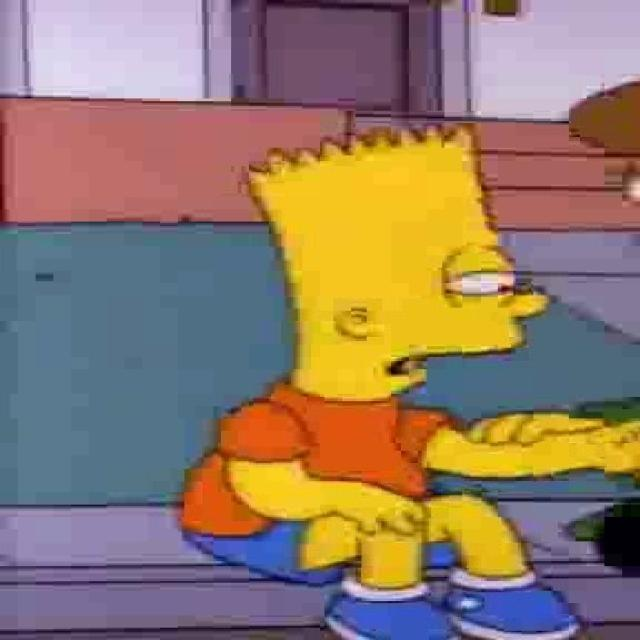Bart Simpson: (246, 123, 550, 403)
